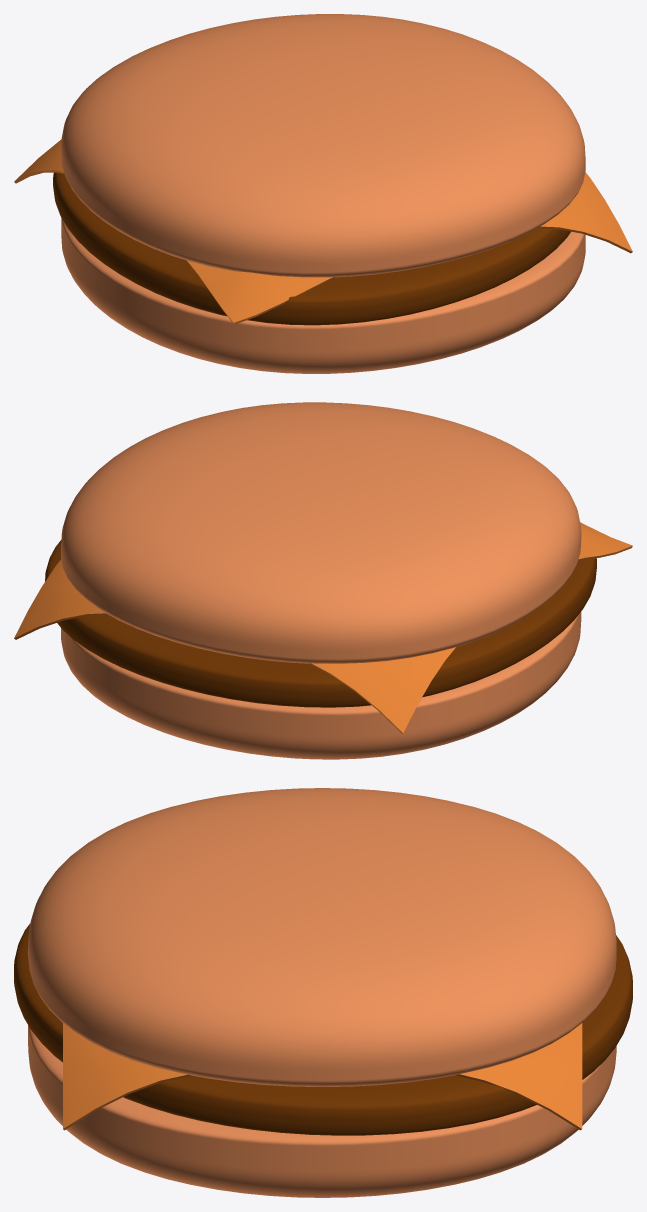
File: hamburger.glb
3 renders of one model, top to bottom at view 1: azimuth 30°, elevation 25°; view 2: azimuth 150°, elevation 25°; view 3: azimuth 270°, elevation 25°, orthographic. The views are drawn at different scales.
Parts seen in each view (by area): view 1: Cube.002, Cube, Cube.001, Plane; view 2: Cube.002, Cube, Cube.001, Plane; view 3: Cube.002, Cube, Cube.001, Plane.
Boxes of the visible parts, x1,y1,x2,y2 form: Cube.002: (61,14,585,277); Cube: (61,218,585,373); Cube.001: (53,172,570,325); Plane: (14,139,632,324); Cube.002: (61,402,581,663); Cube: (61,612,581,759); Cube.001: (45,540,596,707); Plane: (14,522,632,733); Cube.002: (28,788,616,1086); Cube: (28,1025,616,1197); Cube.001: (14,923,632,1135); Plane: (63,1023,582,1130).
Size of the model in its own units: 1.89 by 0.8513 by 1.93.
